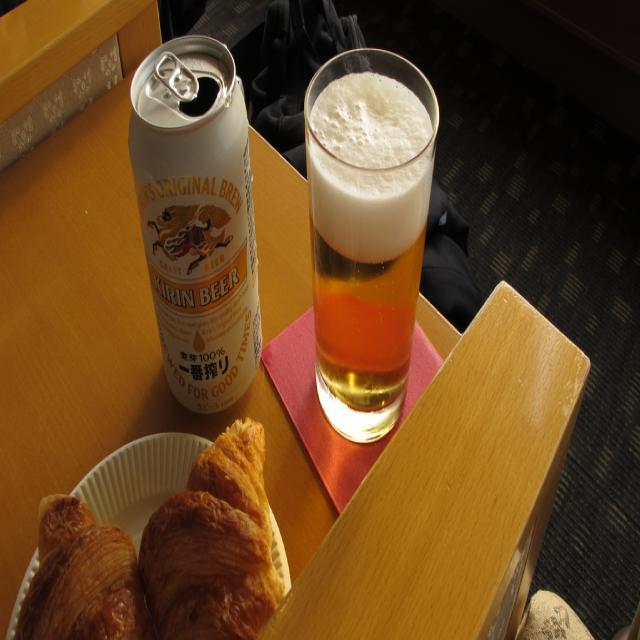Croissant: (138, 419, 284, 639), (26, 517, 134, 640)
